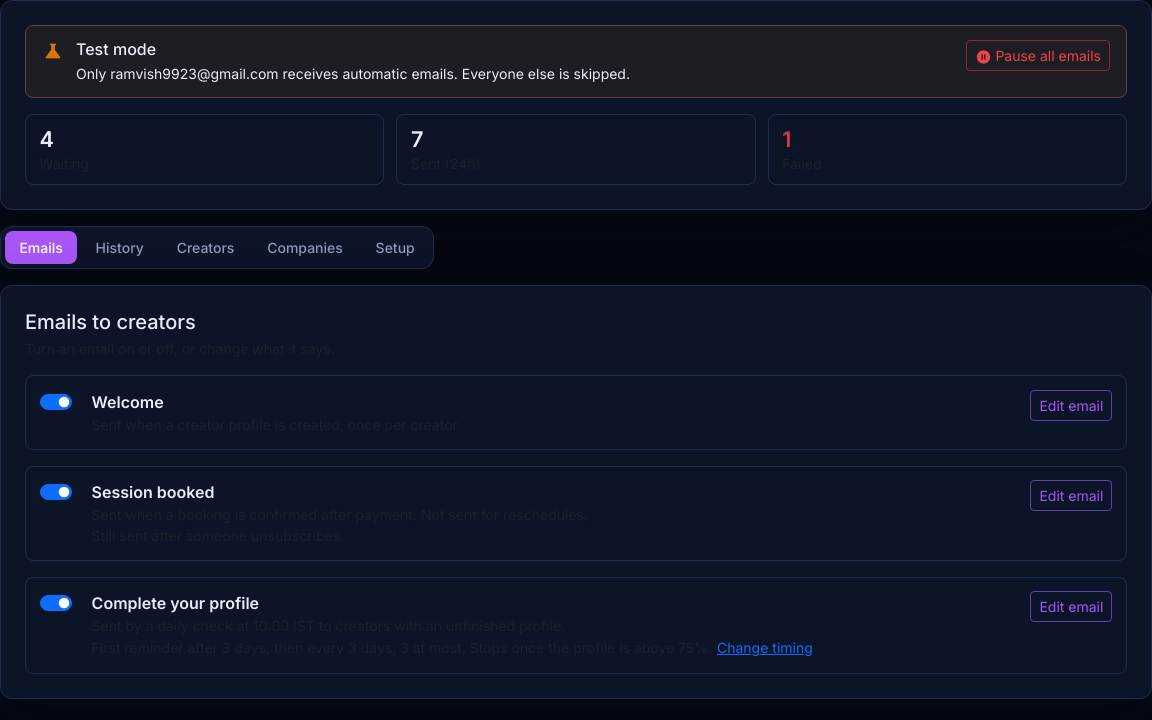
Test: Email control › says which migration is needed before Setup can be edited
Step 1. Click the tab "Setup" → [395, 248], box [361, 231, 429, 264]
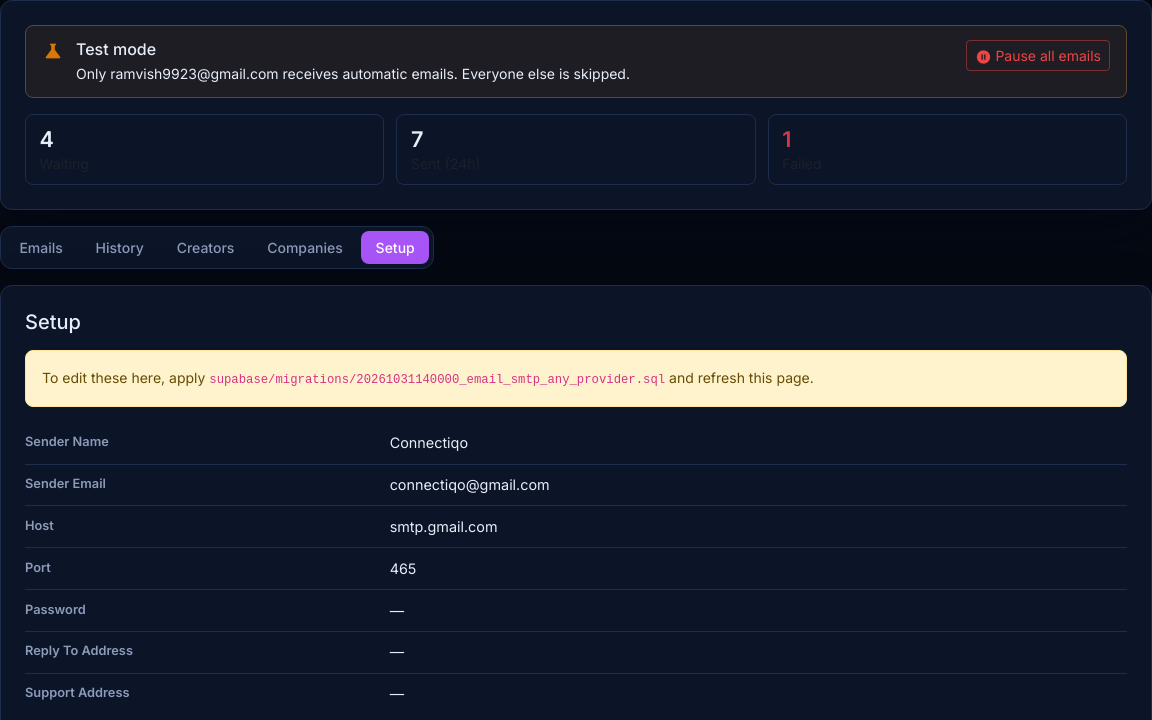
Expected: the message that starts with "To edit these here, apply" shows "20261031140000_email_smtp_any_provider.sql", [209, 373, 665, 387]
